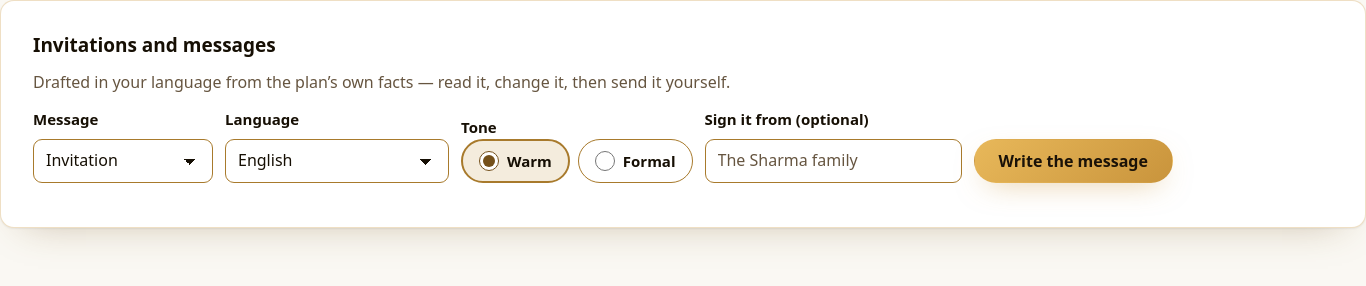
Test: MessageStudio › announces a failure
Click the button "Write the message" at (1073, 161), box [974,139,1173,183]
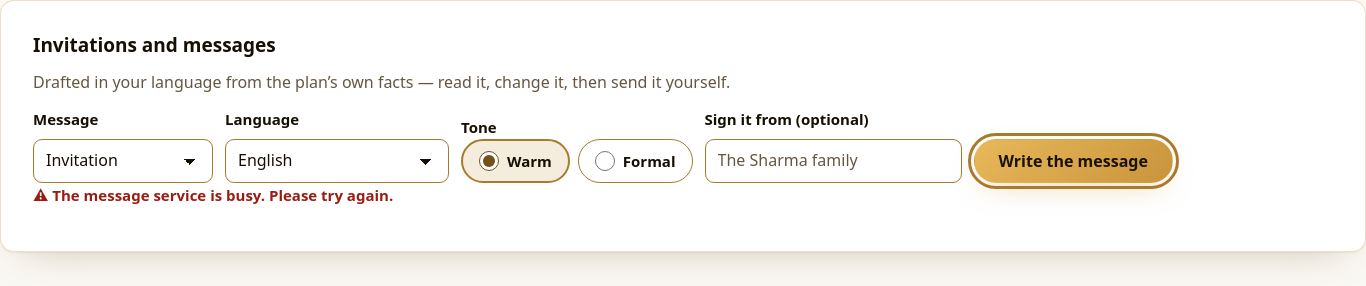
Check: the message reads "The message service is busy. Please try again.", box [52,185,393,205]
